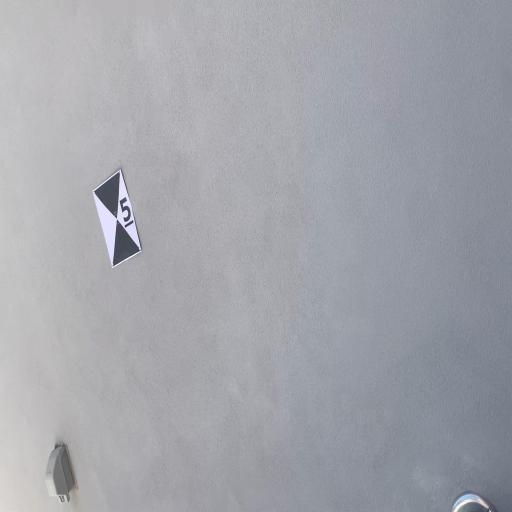target5: (94, 170, 141, 269)
